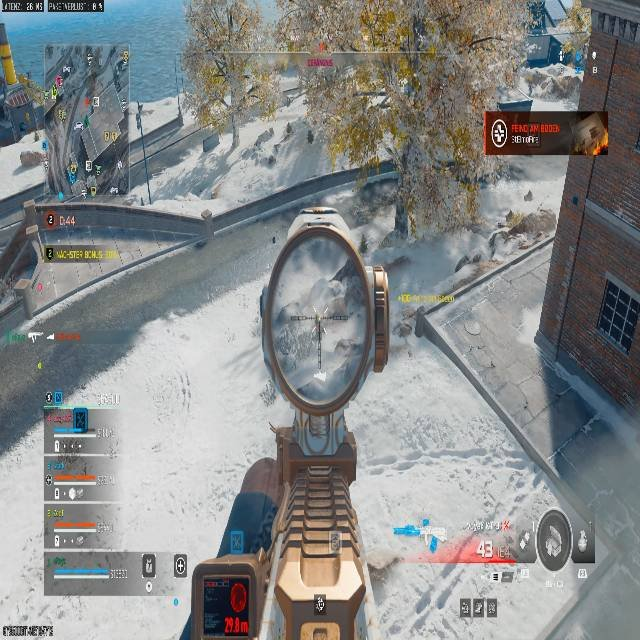player: (394, 306, 416, 359)
